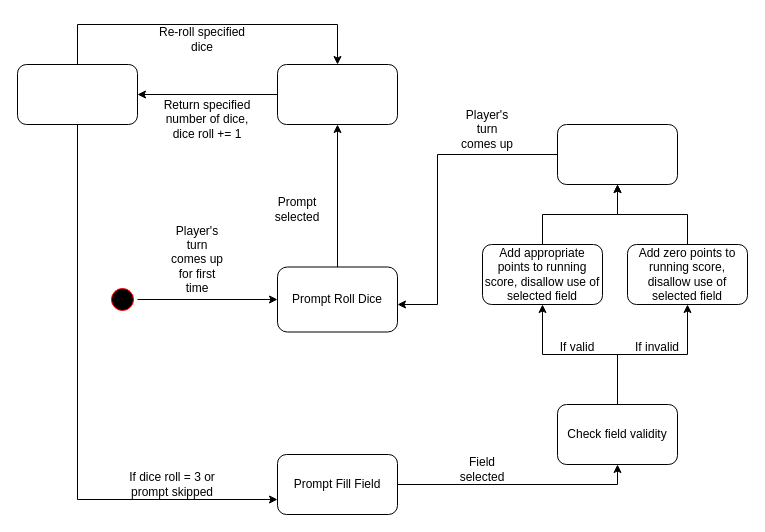
This 765x532 diagram has some shape labels left out. Here are the shapes that lost their labels. From the top down, the box of each, then its label:
(16, 64, 138, 124): Ask for another roll
(276, 64, 398, 124): Roll Dice
(556, 124, 678, 184): Wait for next turn
